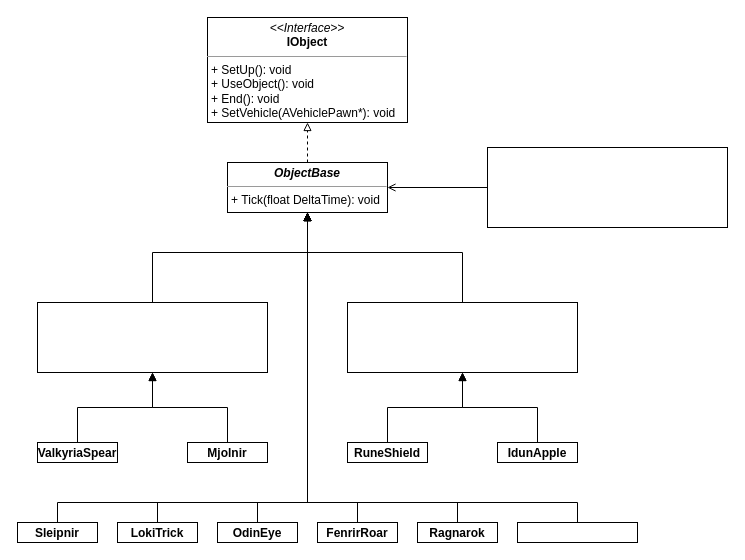
The diagram is 745 pixels wide and 560 high, and some of its shapes have lost their labels. The centre of each missing label's shape, as x and y in pixels:
HarmObjectBase + SetUp(): void + OnOverlapBegin(AActor*, AActor*): void: the point at 152,337
JormundgandrBite: the point at 577,532
ObjectContainer + objects: TArray<ObjectBase*> +: the point at 607,187
ProtectObjectBase + SetUp(): void + OnOverlapBegin(AActor*, AActor*): void: the point at 462,337
